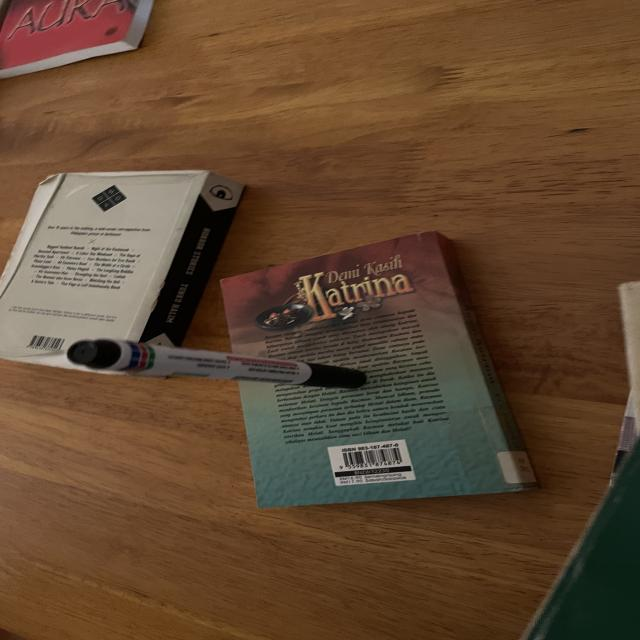marker: (67, 339, 365, 388)
